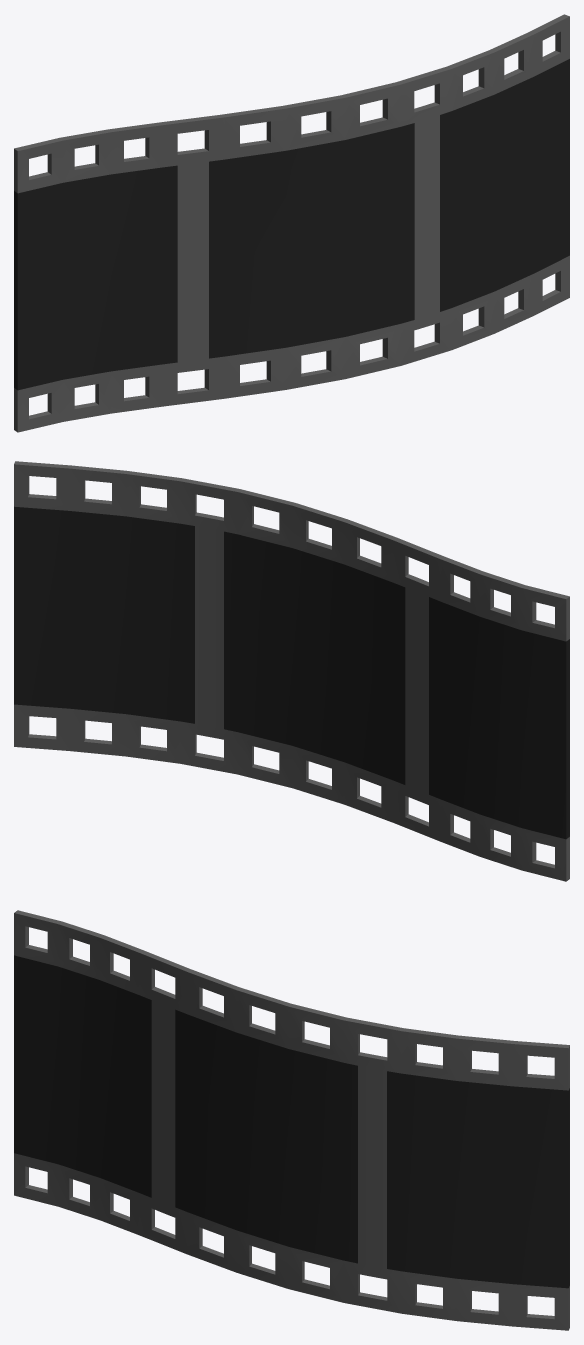
File: film_frames.glb
3 views of the same model, one above another, from view 1: azimuth 30°, elevation 25°; view 2: azimuth 150°, elevation 25°; view 3: azimuth 330°, elevation 25° (orthographic).
Parts seen in each view (by area): view 1: Cube.936; view 2: Cube.936; view 3: Cube.936.
Boxes of the visible parts, bbox=[...] form: Cube.936: bbox=[14, 14, 569, 432]; Cube.936: bbox=[14, 461, 569, 881]; Cube.936: bbox=[14, 910, 569, 1330].
Bounding box in the file's own units: 2.37 × 1.15 × 0.2341.
1 material, 1 textured.
